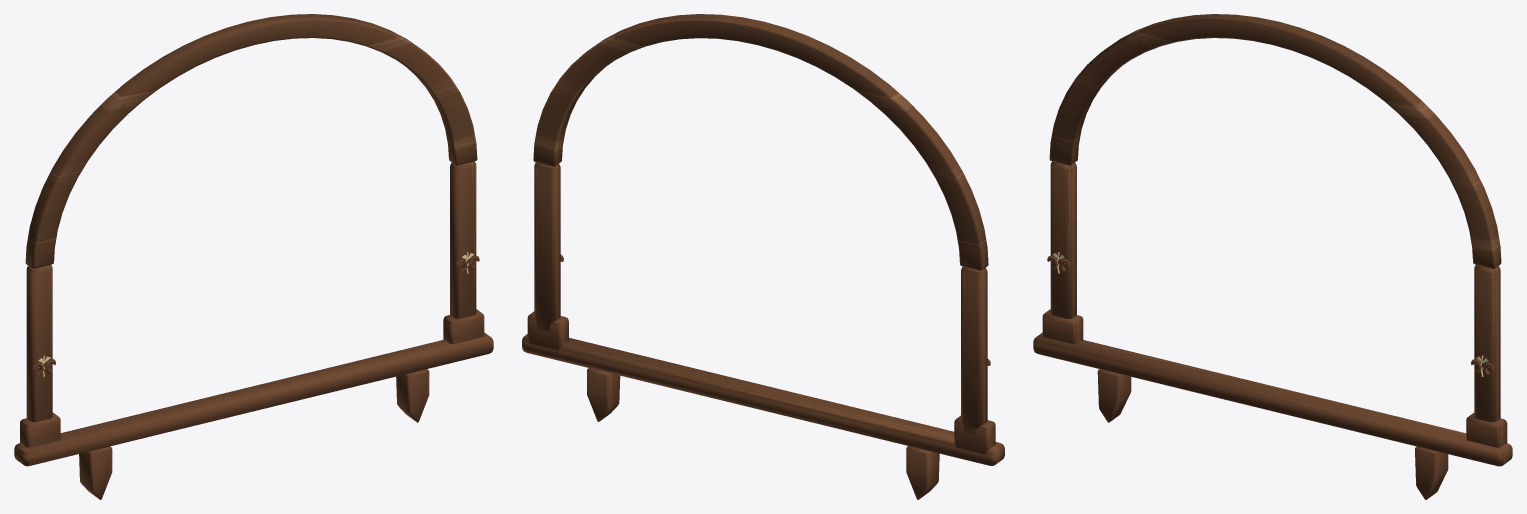
The model's file is CM_IL04_ArchedWindowLining.fbx.
The picture shows the model from 3 angles, left to right: view 1: azimuth 30°, elevation 25°; view 2: azimuth 150°, elevation 25°; view 3: azimuth 330°, elevation 25°; orthographic projection.
Visible parts, largest first — view 1: CM_IL04_ArchedWindowLining; view 2: CM_IL04_ArchedWindowLining; view 3: CM_IL04_ArchedWindowLining.
Part boxes in pixels (box(x1,y1,x2,y2)): CM_IL04_ArchedWindowLining: box(14, 14, 493, 499); CM_IL04_ArchedWindowLining: box(522, 14, 1004, 499); CM_IL04_ArchedWindowLining: box(1033, 14, 1512, 499).
Bounding box in the file's own units: 1.9 × 1.67 × 0.09.
